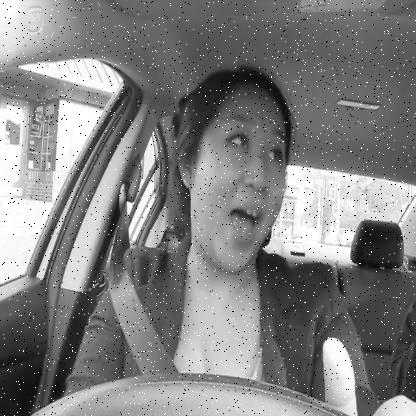seatbelt: (110, 52, 304, 398)
